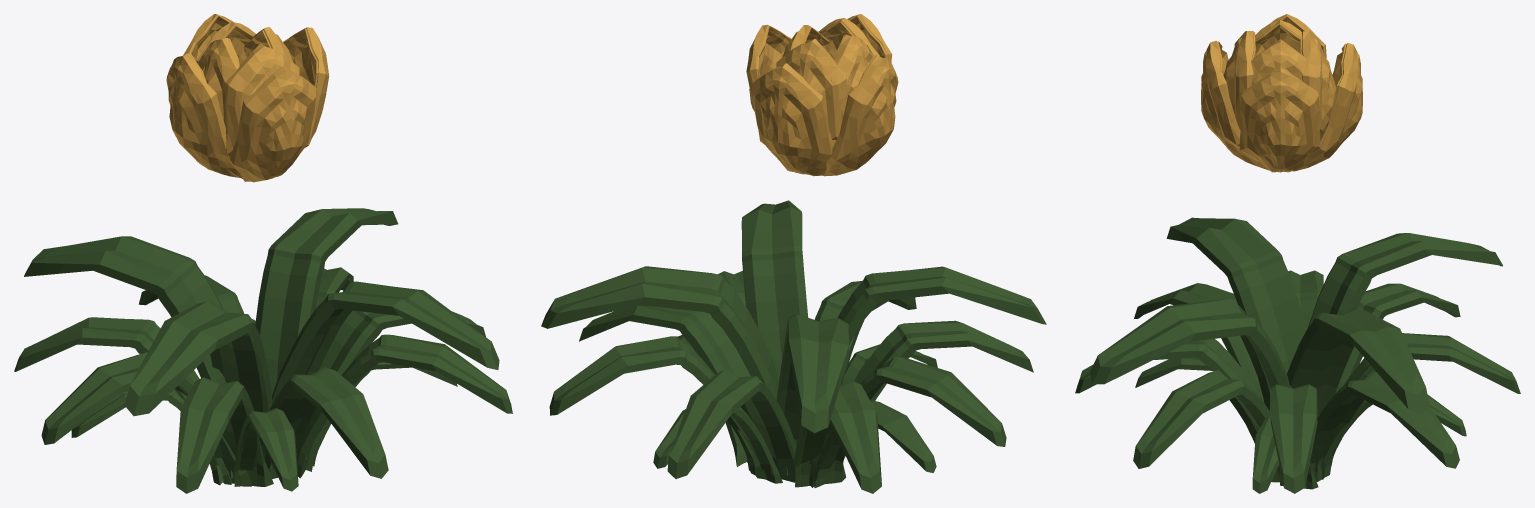
The model's file is FLOR_2.fbx.
3 views of the same model, side by side, from view 1: azimuth 30°, elevation 25°; view 2: azimuth 150°, elevation 25°; view 3: azimuth 270°, elevation 25° (orthographic). The views are drawn at different scales.
Parts seen in each view (by area): view 1: Plane.005, Plane.006; view 2: Plane.005, Plane.006; view 3: Plane.005, Plane.006.
Boxes of the visible parts, x1,y1,x2,y2 form: Plane.005: (14,208,512,493); Plane.006: (166,14,329,182); Plane.005: (541,200,1046,493); Plane.006: (746,14,898,176); Plane.005: (1075,217,1520,493); Plane.006: (1201,14,1362,172).
Bounding box in the file's own units: 680 × 670 × 638.
